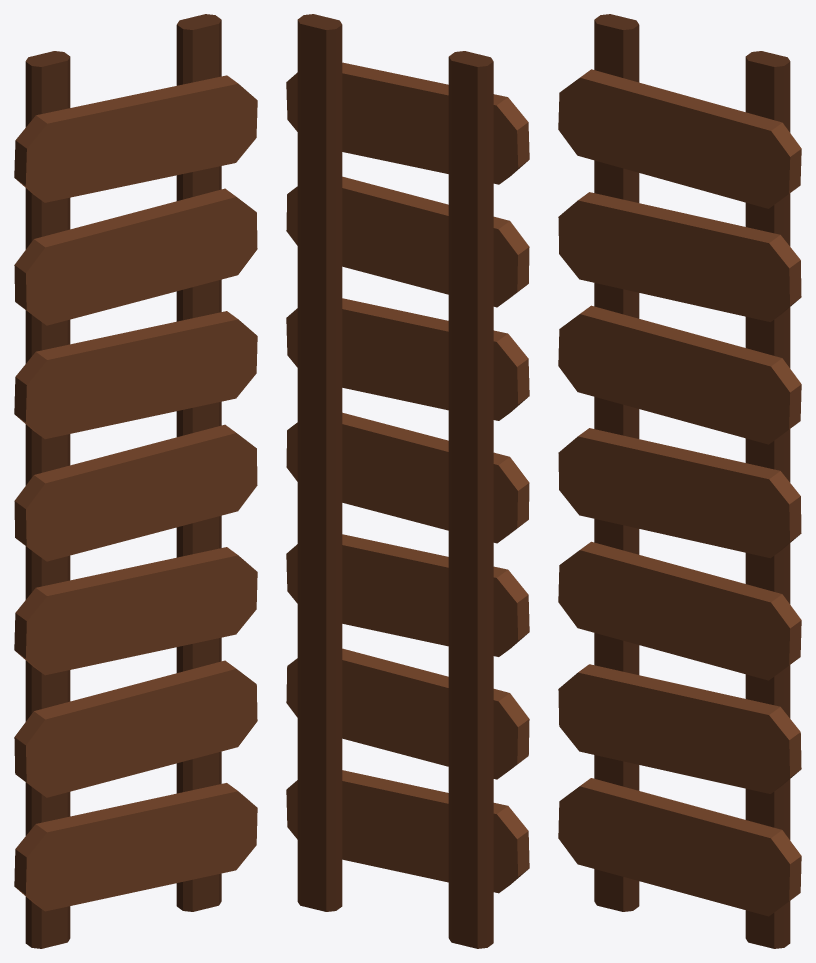
The model's file is ladder.fbx.
3 renders of one model, left to right at view 1: azimuth 30°, elevation 25°; view 2: azimuth 150°, elevation 25°; view 3: azimuth 330°, elevation 25°, orthographic.
Parts seen in each view (by area): view 1: ladder; view 2: ladder; view 3: ladder.
Part boxes in pixels (box(x1,y1,x2,y2)): ladder: box(14, 14, 257, 948); ladder: box(286, 14, 529, 948); ladder: box(558, 14, 801, 948).
Size of the model in its own units: 81.69 by 297 by 15.14.
